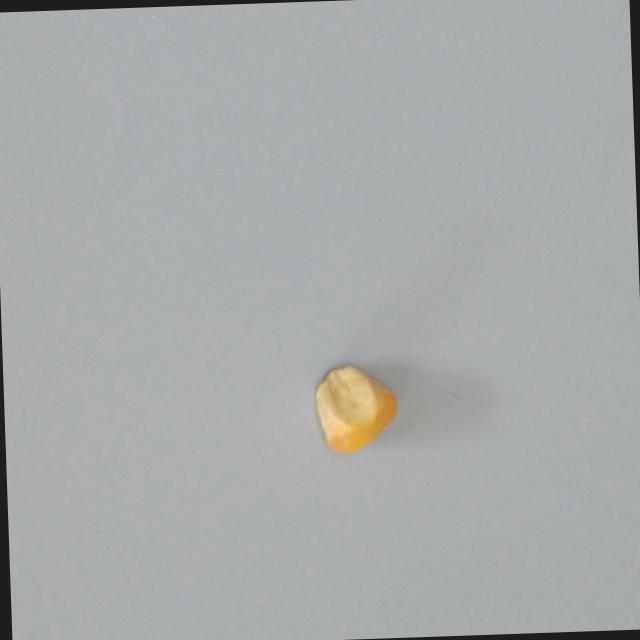dañado: (309, 361, 400, 457)
